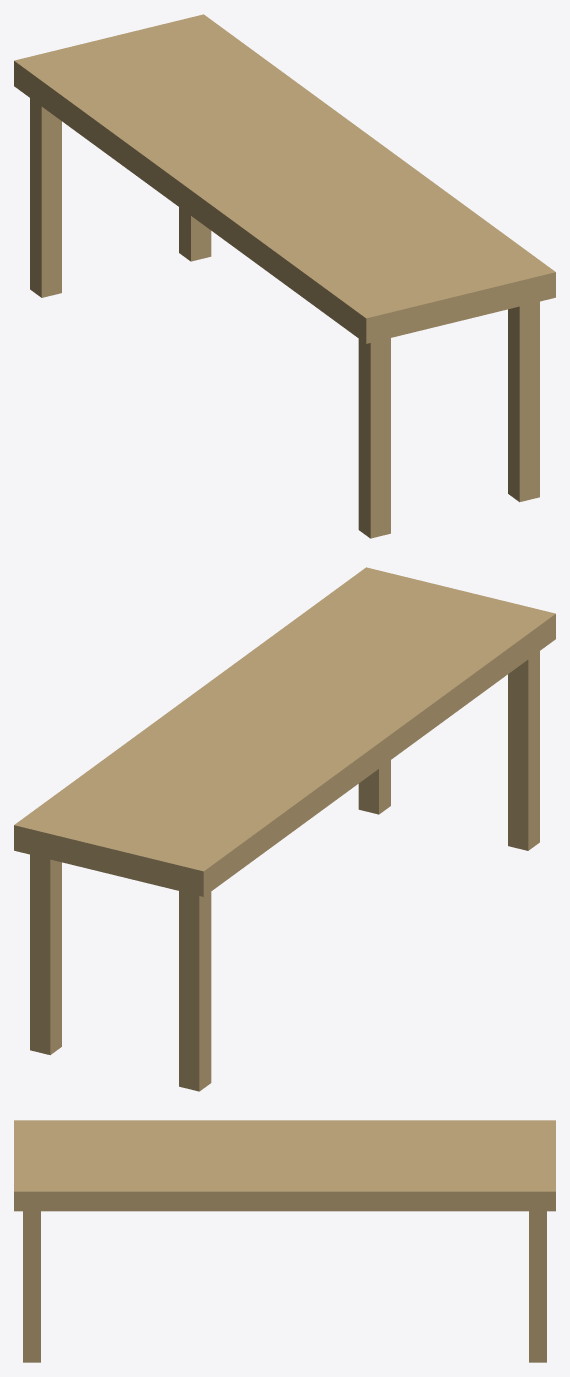
File: bench.glb
3 views of the same model, one above another, from view 1: azimuth 30°, elevation 25°; view 2: azimuth 150°, elevation 25°; view 3: azimuth 270°, elevation 25° (orthographic). The views are drawn at different scales.
Visible parts, largest first — view 1: REF-L01-R01-bench-part-1, REF-L01-R01-bench-part-3, REF-L01-R01-bench-part-5, REF-L01-R01-bench-part-2, REF-L01-R01-bench-part-4; view 2: REF-L01-R01-bench-part-1, REF-L01-R01-bench-part-2, REF-L01-R01-bench-part-4, REF-L01-R01-bench-part-3, REF-L01-R01-bench-part-5; view 3: REF-L01-R01-bench-part-1, REF-L01-R01-bench-part-4, REF-L01-R01-bench-part-5.
Boxes of the visible parts, x1,y1,x2,y2 form: REF-L01-R01-bench-part-1: (14, 14, 555, 343); REF-L01-R01-bench-part-3: (358, 338, 390, 538); REF-L01-R01-bench-part-5: (508, 301, 539, 502); REF-L01-R01-bench-part-2: (30, 98, 61, 297); REF-L01-R01-bench-part-4: (179, 207, 211, 261); REF-L01-R01-bench-part-1: (14, 567, 555, 896); REF-L01-R01-bench-part-2: (179, 891, 211, 1091); REF-L01-R01-bench-part-4: (30, 854, 61, 1055); REF-L01-R01-bench-part-3: (508, 651, 539, 850); REF-L01-R01-bench-part-5: (358, 760, 390, 814); REF-L01-R01-bench-part-1: (14, 1120, 555, 1211); REF-L01-R01-bench-part-4: (529, 1211, 546, 1362); REF-L01-R01-bench-part-5: (23, 1211, 40, 1362).
Bounding box in the file's own units: 0.14 × 0.16 × 0.45.
